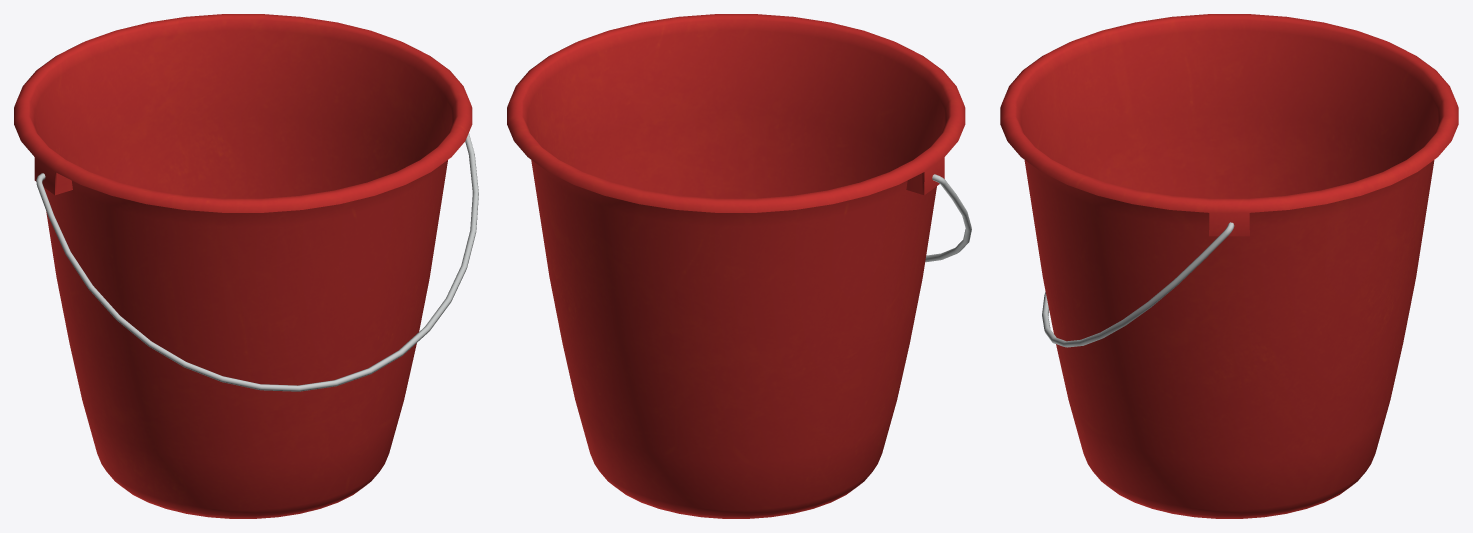
The model's file is Bucket3.obj.
3 views of the same model, side by side, from view 1: azimuth 30°, elevation 25°; view 2: azimuth 150°, elevation 25°; view 3: azimuth 270°, elevation 25° (orthographic).
Parts seen in each view (by area): view 1: Bucket3; view 2: Bucket3; view 3: Bucket3.
Boxes of the visible parts, x1=… form: Bucket3: x1=14, y1=14, x2=478, y2=518; Bucket3: x1=507, y1=14, x2=971, y2=518; Bucket3: x1=1000, y1=14, x2=1458, y2=518.
Size of the model in its own units: 9.81 by 7.99 by 9.36.
